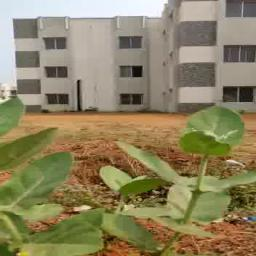Calotropis: (0, 215, 29, 253), (185, 130, 225, 153), (34, 232, 72, 254), (168, 219, 212, 237), (72, 216, 93, 253), (44, 152, 68, 182), (4, 182, 24, 216), (203, 192, 225, 222), (16, 130, 34, 163), (27, 167, 45, 198), (110, 215, 136, 236), (140, 201, 173, 217), (34, 204, 68, 219), (194, 105, 212, 133), (110, 168, 133, 188), (144, 158, 170, 174), (229, 116, 242, 147), (216, 110, 228, 143), (205, 173, 224, 193), (127, 184, 162, 194), (147, 233, 165, 251), (170, 177, 189, 194), (8, 100, 19, 128), (174, 196, 185, 224), (229, 174, 255, 184), (3, 141, 12, 169), (40, 126, 52, 144), (130, 150, 155, 158), (118, 140, 136, 150)
